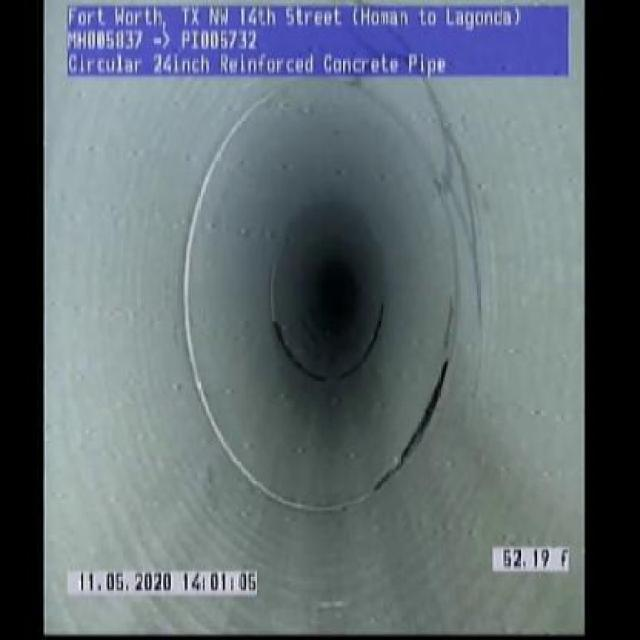Crack: (408, 76, 504, 398)
